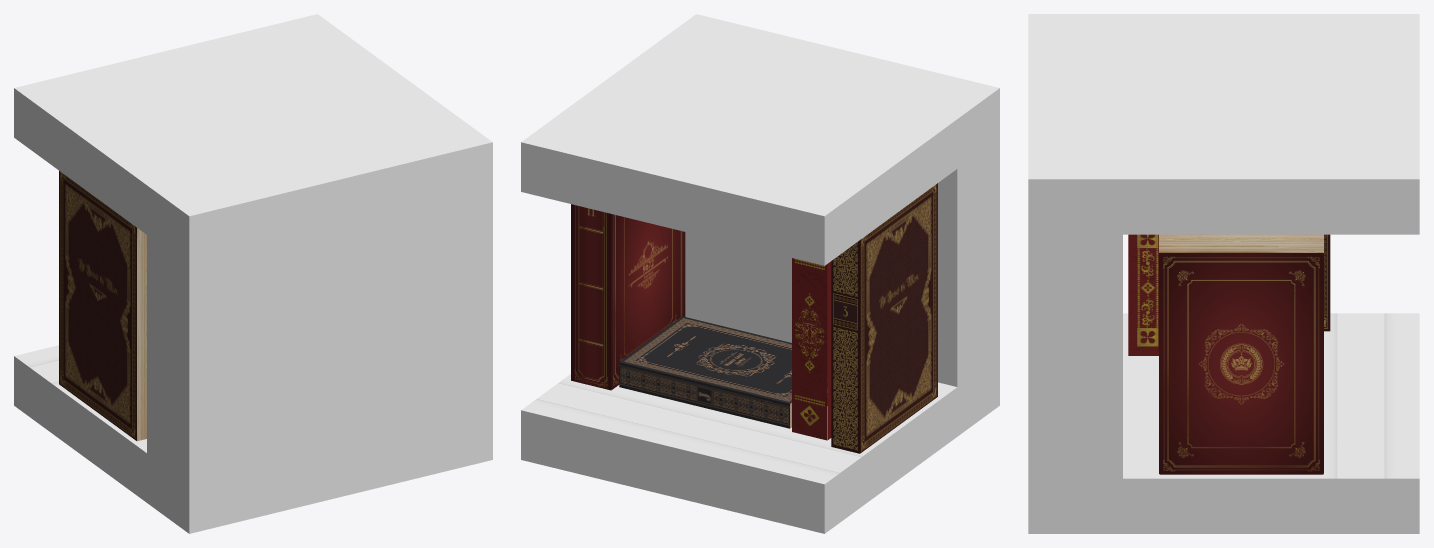
File: bookshelf2.obj
The picture shows the model from 3 angles, left to right: view 1: azimuth 30°, elevation 25°; view 2: azimuth 150°, elevation 25°; view 3: azimuth 270°, elevation 25°; orthographic projection. The views are drawn at different scales.
Parts seen in each view (by area): view 1: cube.008, cube.014, cube.009, cube.013; view 2: cube.008, cube.009, cube.014, cube.013, cube.012, cube.011, cube.010; view 3: cube.008, cube.009, cube.012, cube.014, cube.010, cube.013.
Part boxes in pixels (left/top/right/bottom): cube.008: left=14, top=14, right=492, bottom=265; cube.014: left=147, top=192, right=492, bottom=484; cube.009: left=14, top=345, right=492, bottom=533; cube.013: left=59, top=171, right=146, bottom=441; cube.008: left=521, top=14, right=999, bottom=265; cube.009: left=521, top=356, right=999, bottom=533; cube.014: left=685, top=138, right=999, bottom=386; cube.013: left=831, top=183, right=937, bottom=453; cube.012: left=571, top=204, right=685, bottom=390; cube.011: left=619, top=316, right=791, bottom=428; cube.010: left=792, top=258, right=831, bottom=440; cube.008: left=1028, top=14, right=1419, bottom=234; cube.009: left=1028, top=313, right=1419, bottom=533; cube.012: left=1159, top=234, right=1323, bottom=474; cube.014: left=1028, top=234, right=1122, bottom=478; cube.010: left=1128, top=234, right=1158, bottom=355; cube.013: left=1324, top=234, right=1330, bottom=331.
Bounding box in the file's own units: 1 × 1 × 1.
